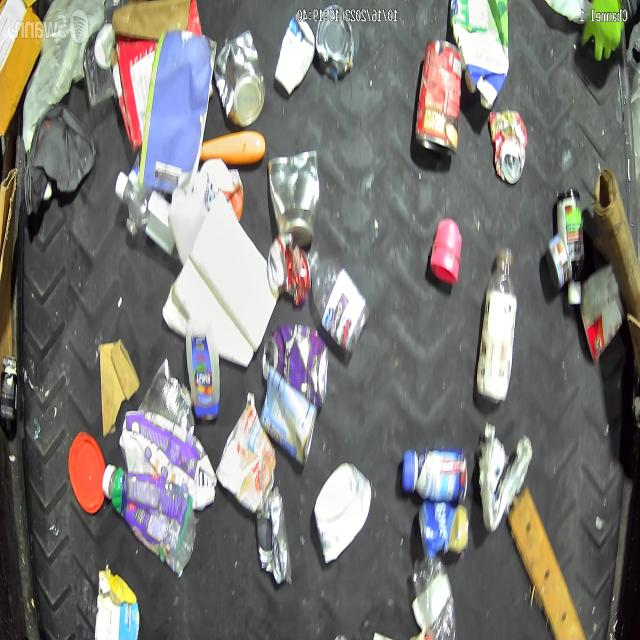can: (215, 389, 277, 512), (412, 33, 466, 160), (262, 321, 330, 408), (259, 367, 318, 467), (267, 146, 320, 251), (212, 28, 266, 127), (138, 356, 195, 438), (255, 486, 294, 589), (487, 106, 527, 188), (268, 233, 311, 306), (418, 498, 469, 558), (315, 4, 353, 80), (545, 232, 572, 292)
plastic_bottle: (305, 245, 369, 356), (114, 169, 181, 262), (412, 552, 456, 640)
